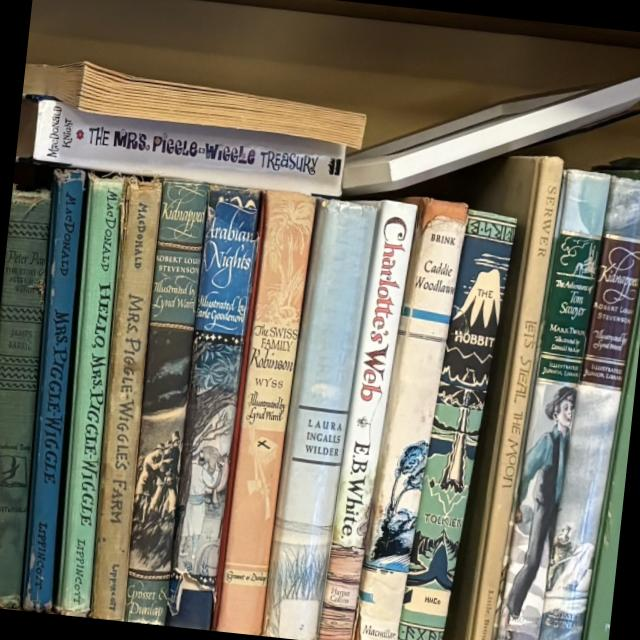book: (394, 145, 563, 640), (490, 167, 613, 640), (344, 195, 469, 640), (257, 197, 378, 640), (393, 208, 517, 640), (207, 189, 317, 636), (536, 175, 640, 640), (311, 198, 418, 640), (164, 186, 262, 630), (119, 179, 209, 624), (29, 97, 348, 207), (86, 177, 162, 620), (54, 173, 124, 615), (20, 168, 85, 610), (0, 186, 53, 607), (583, 292, 640, 640)
